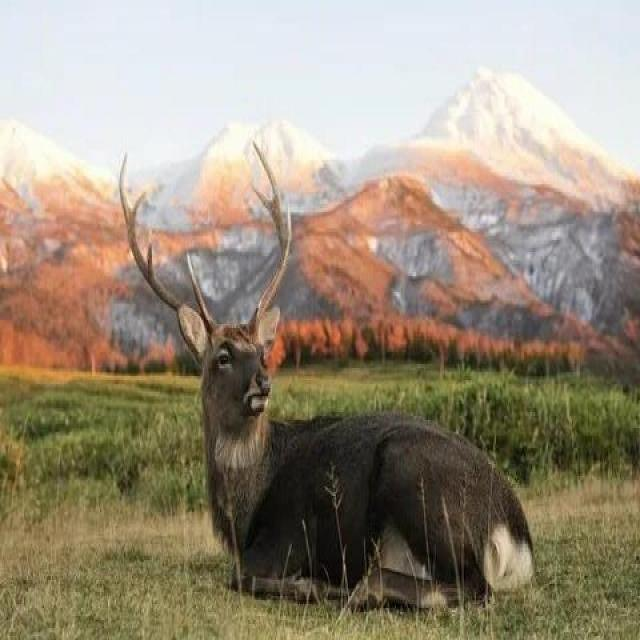deer: (136, 183, 524, 604)
